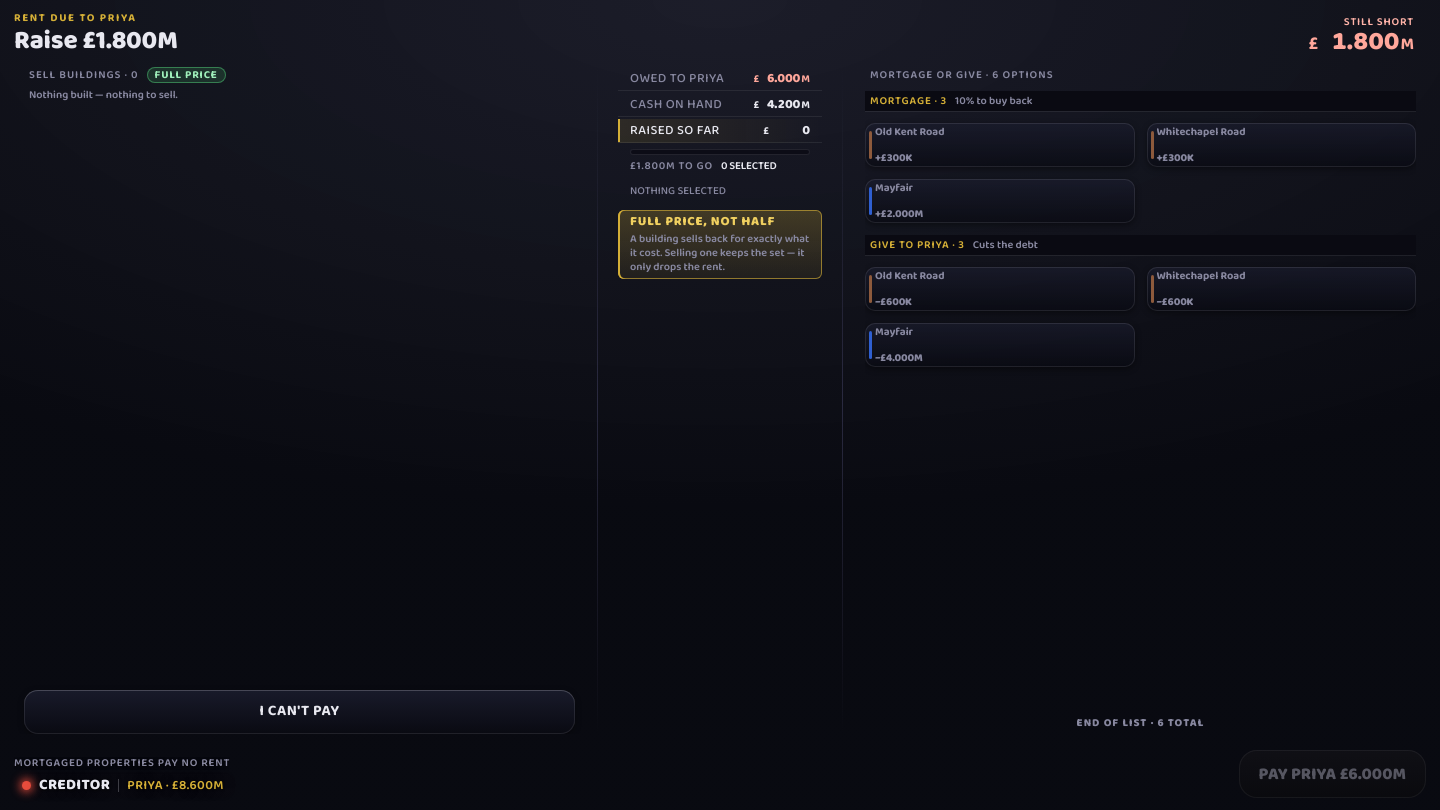
Test: BankruptcyPanel › the PAY primary is dead until the shortfall is covered
Expected: the button "Pay Priya £6.000M" is disabled, x1=1239 y1=750 x2=1426 y2=798
Click the button with aria-label "Mayfair — mortgage".
click(894, 188)  # box x1=865 y1=180 x2=1134 y2=224
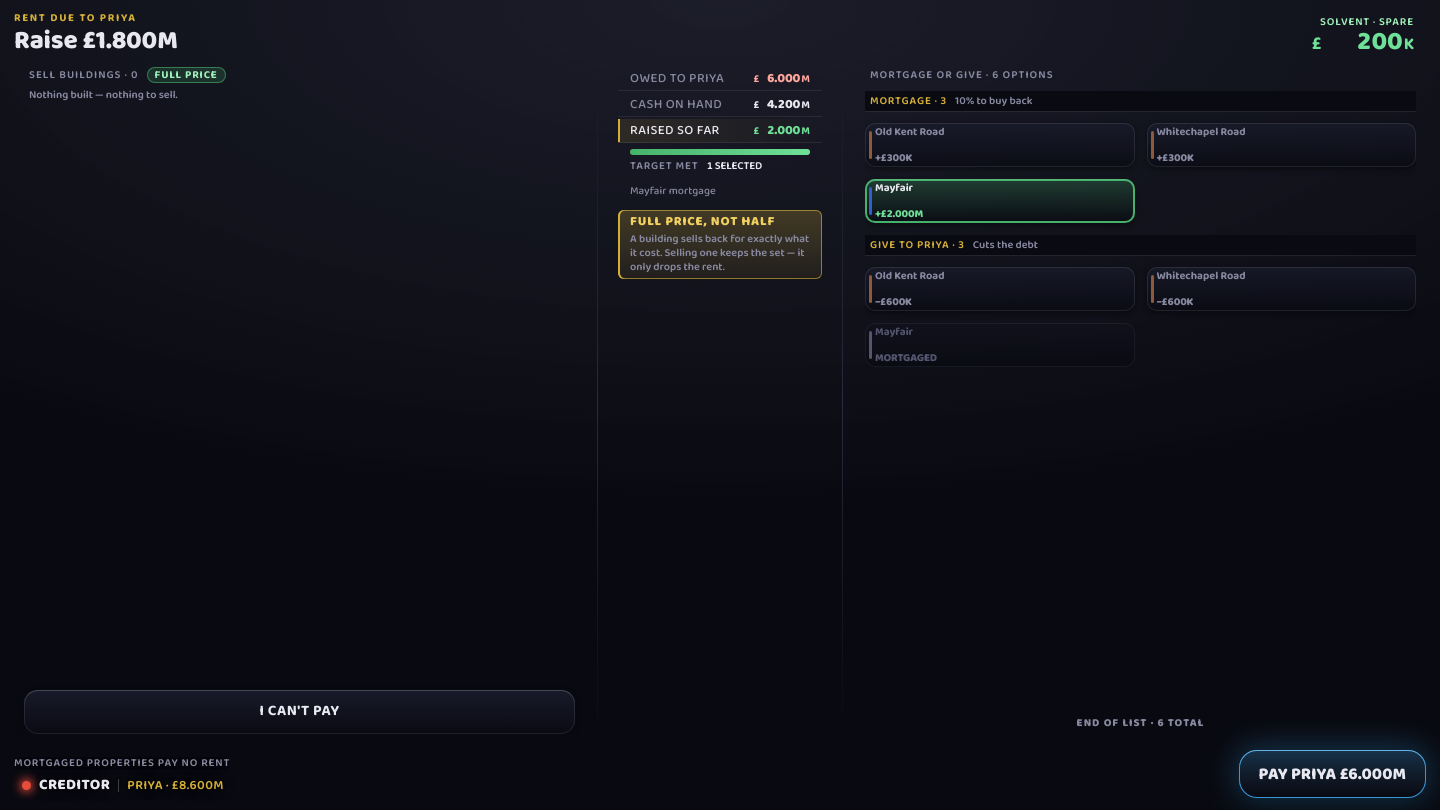
Expected: the button "Pay Priya £6.000M" is enabled, x1=1239 y1=750 x2=1426 y2=798
